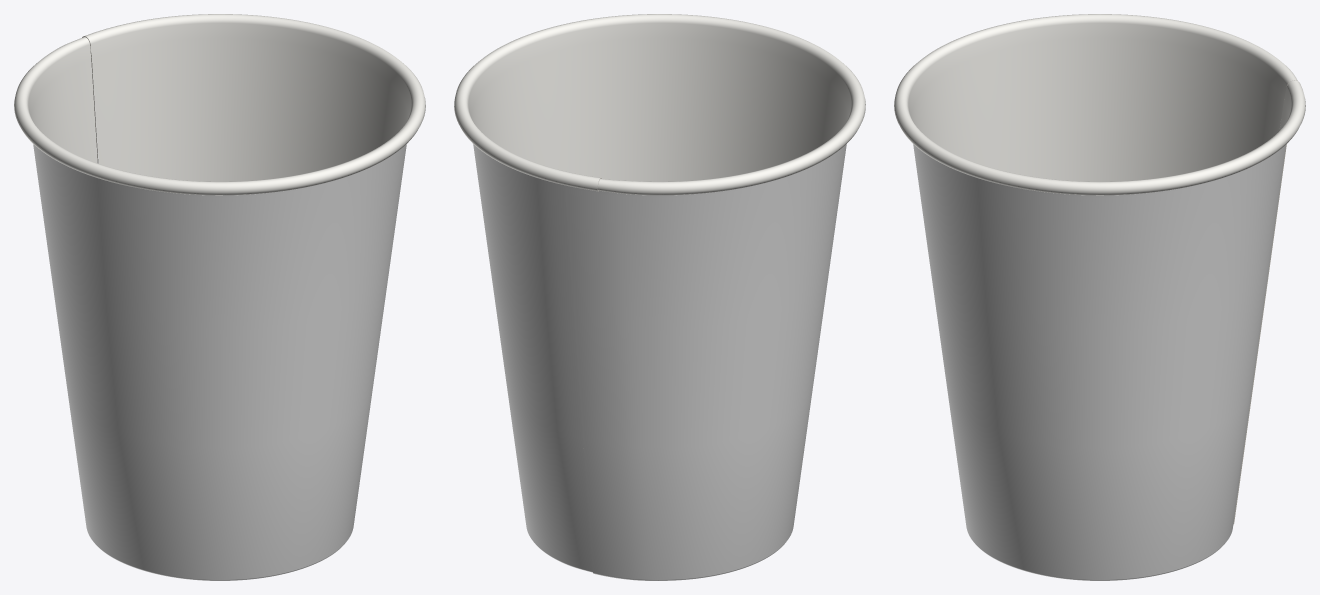
3 views of the same model, side by side, from view 1: azimuth 30°, elevation 25°; view 2: azimuth 150°, elevation 25°; view 3: azimuth 270°, elevation 25° (orthographic).
Visible parts, largest first — view 1: Cup_Wall; view 2: Cup_Wall; view 3: Cup_Wall.
Part boxes in pixels (<box>): Cup_Wall: <box>14,14,425,580</box>; Cup_Wall: <box>454,14,865,580</box>; Cup_Wall: <box>894,14,1305,580</box>.
Size of the model in its own units: 0.07 by 0.0801 by 0.07.
3 materials, 1 textured.
